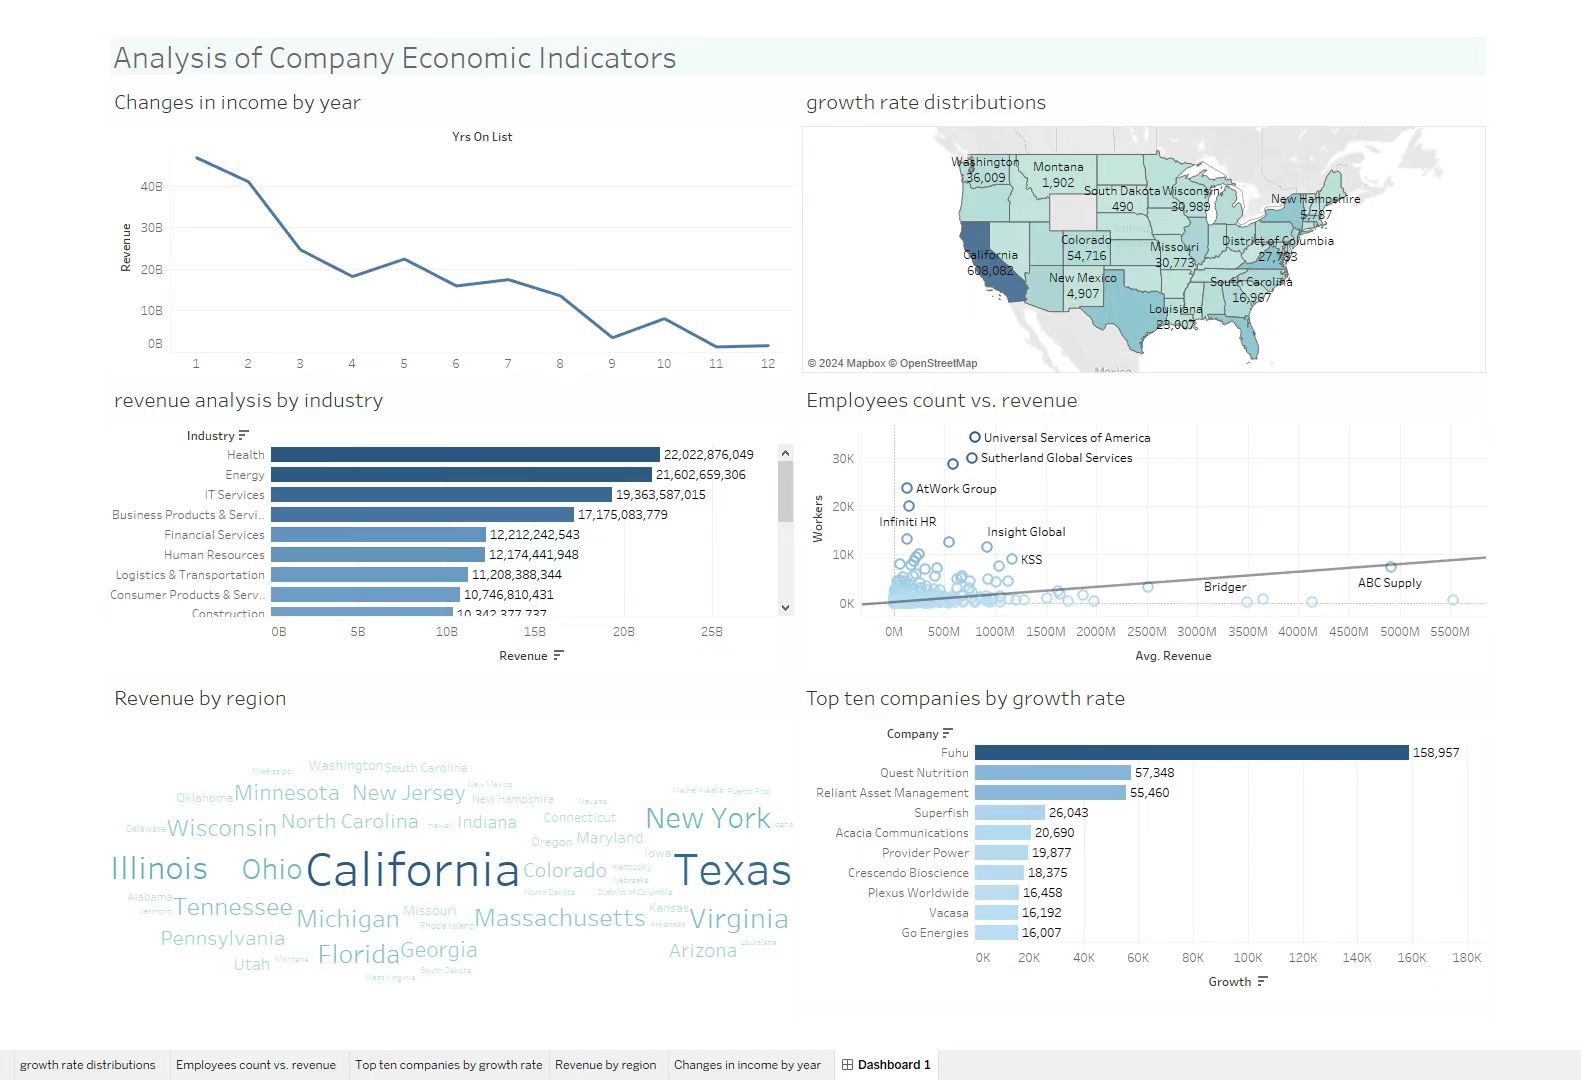

Layout of this report page (visuals, bound fields, positions):
{"tool":"tableau","page":{"name":"Dashboard 1","canvas":[1400,1000],"ordinal":0},"visuals":[{"type":"text","box":[8,8,1384,50]},{"type":"worksheet","title":"Changes in income by year","mark":"Line","rows":["revenue"],"cols":["yrs_on_list"],"box":[8,58,692,296]},{"type":"worksheet","title":"growth rate distributions","mark":"Automatic","box":[700,58,692,296]},{"type":"worksheet","title":"revenue analysis by industry","mark":"Automatic","rows":["industry"],"cols":["revenue"],"box":[8,354,692,296]},{"type":"worksheet","title":"Employees count vs. revenue","mark":"Automatic","rows":["workers"],"cols":["revenue"],"box":[700,354,692,296]},{"type":"worksheet","title":"Revenue by region","mark":"Text","box":[8,650,692,342]},{"type":"worksheet","title":"Top ten companies by growth rate","mark":"Automatic","rows":["company"],"cols":["growth"],"box":[700,650,692,342]}]}

Visuals, with their boxes on the page's 1400x1000 design canvas (x1, y1, x2, y2). These are canvas units, not pixel positions in the 1581x1080 screenshot, which may show the page scaled, cropped or inside an application window:
text: 8, 8, 1392, 58
"Changes in income by year" worksheet (Line marks): 8, 58, 700, 354
"growth rate distributions" worksheet: 700, 58, 1392, 354
"revenue analysis by industry" worksheet: 8, 354, 700, 650
"Employees count vs. revenue" worksheet: 700, 354, 1392, 650
"Revenue by region" worksheet (Text marks): 8, 650, 700, 992
"Top ten companies by growth rate" worksheet: 700, 650, 1392, 992
